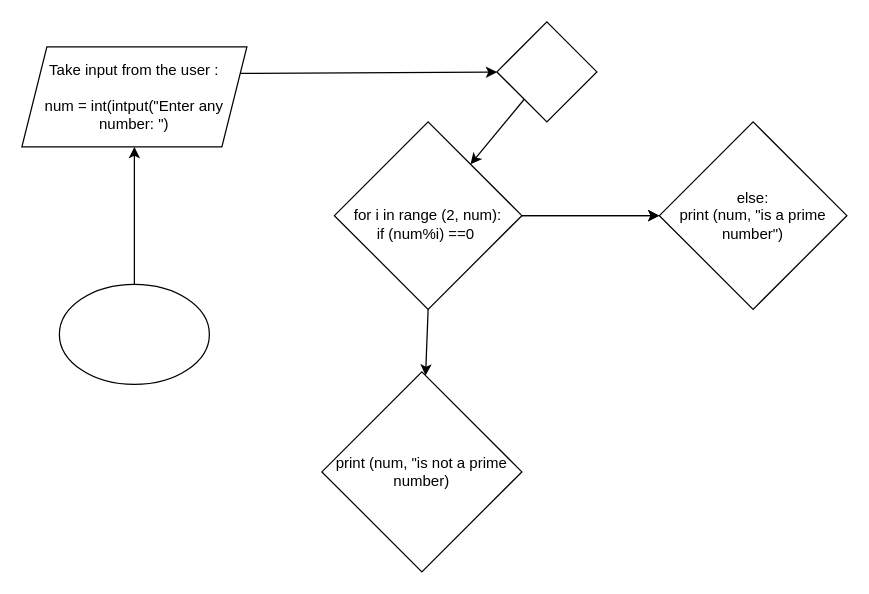
Some shapes in this 869 by 594 pixel diagram are drawn without their labels. Here are the shapes that lost their labels. From the top down, the centre of each, then its label:
At point (546, 71): "if num > 1:".
At point (133, 333): "Start".
